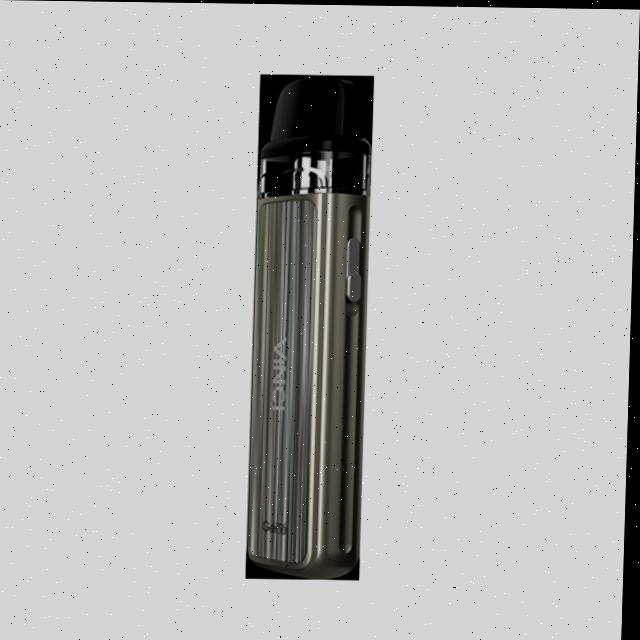vape: (250, 74, 373, 579)
